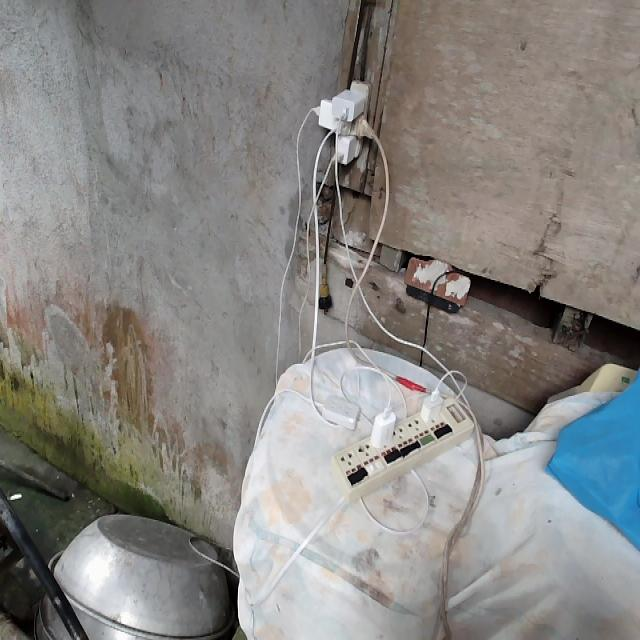-: (317, 77, 372, 167)
